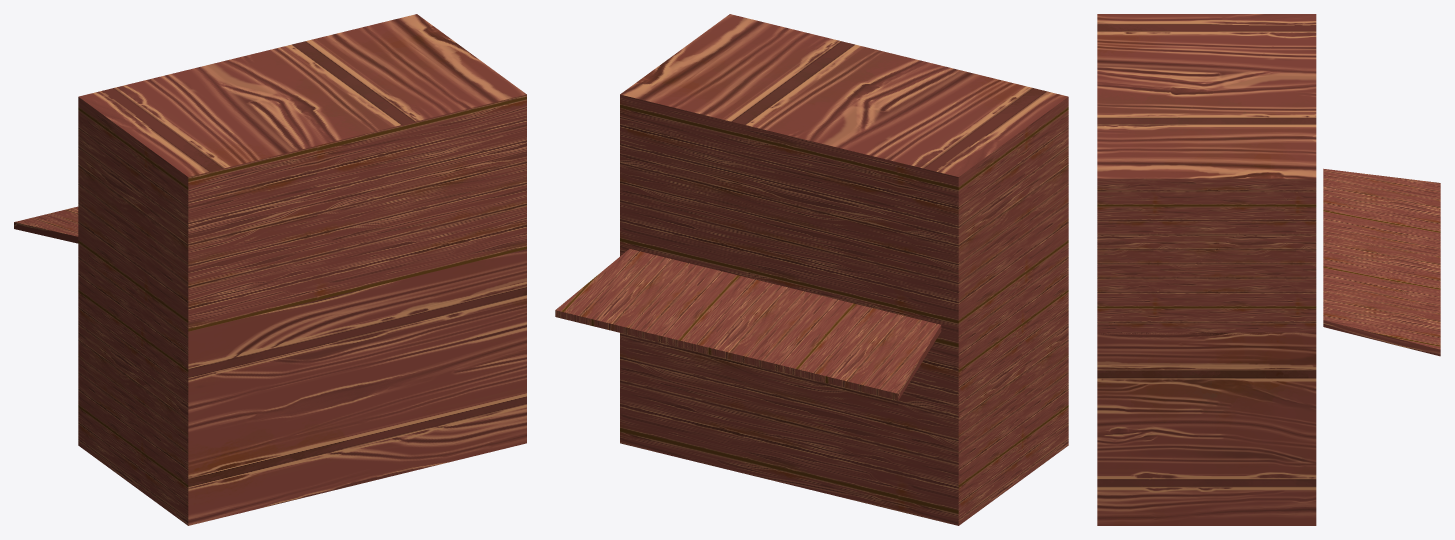
The picture shows the model from 3 angles, left to right: view 1: azimuth 30°, elevation 25°; view 2: azimuth 150°, elevation 25°; view 3: azimuth 270°, elevation 25°; orthographic projection.
Parts seen in each view (by area): view 1: Cube.004; view 2: Cube.004; view 3: Cube.004.
Part boxes in pixels (x1,y1,x2,y2): Cube.004: (14,14,526,525); Cube.004: (555,14,1068,525); Cube.004: (1097,14,1440,525).
Size of the model in its own units: 654 by 636 by 569.
